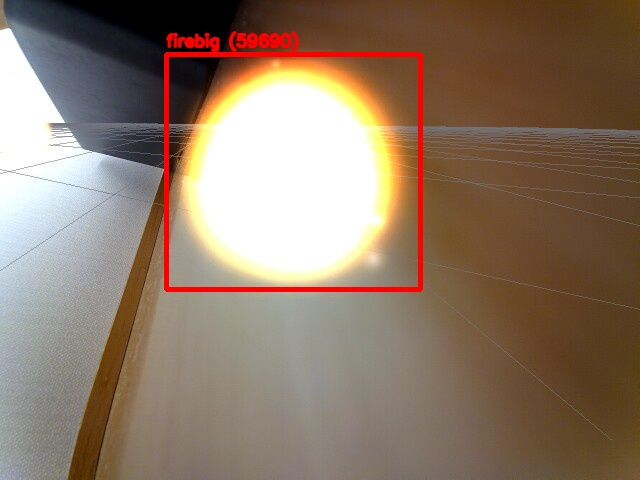firebig: (166, 54, 420, 289)
